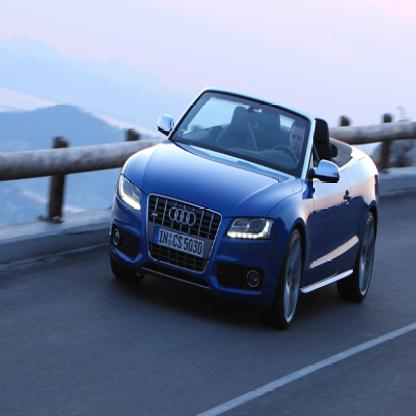Vehicle: (109, 91, 380, 330)
